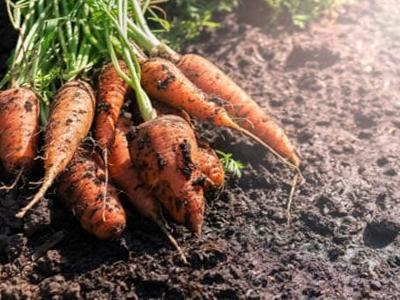carrot: (0, 42, 290, 256), (101, 45, 298, 243), (48, 81, 133, 241), (1, 88, 37, 169)
